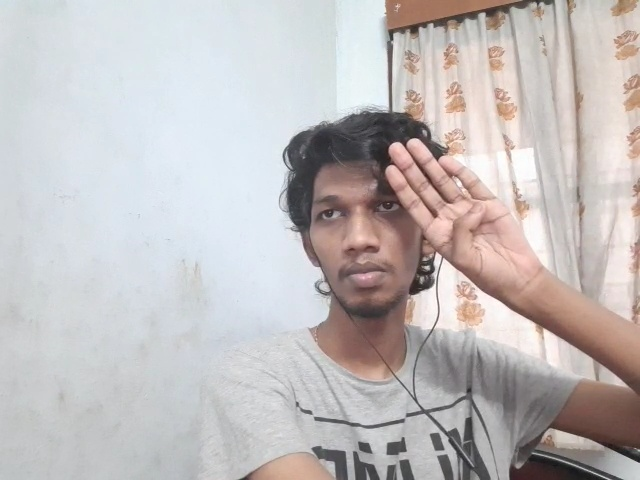Hello: (383, 137, 538, 298)
